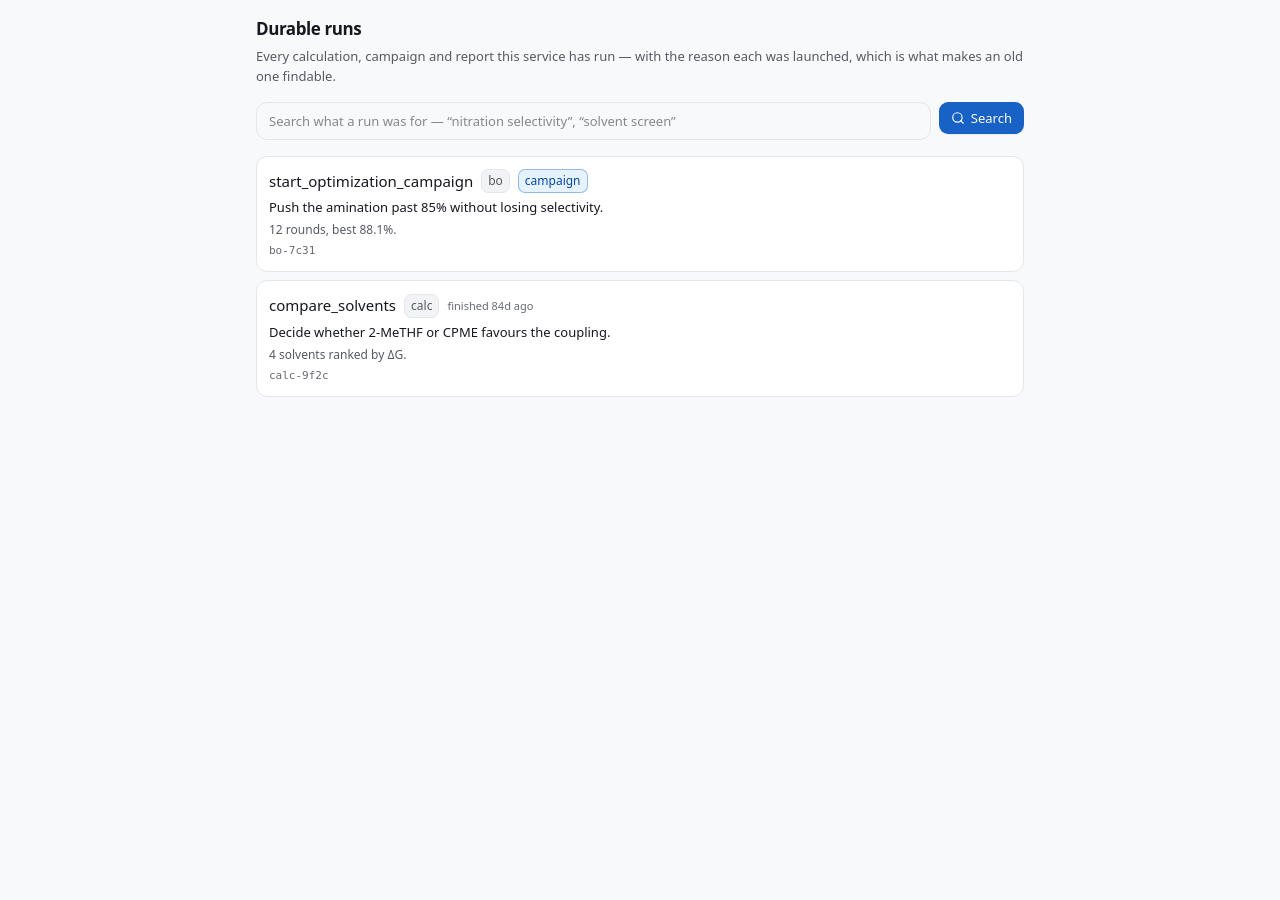
it: JobsPanel › tells a multi-hour campaign apart from a calculation, in the list and in the sheet
Expected: the text "campaign" is shown, [518,169,588,193]
Step 1. Click the button "start_optimization_campaign" → (371, 181), box [256,156,1024,272]
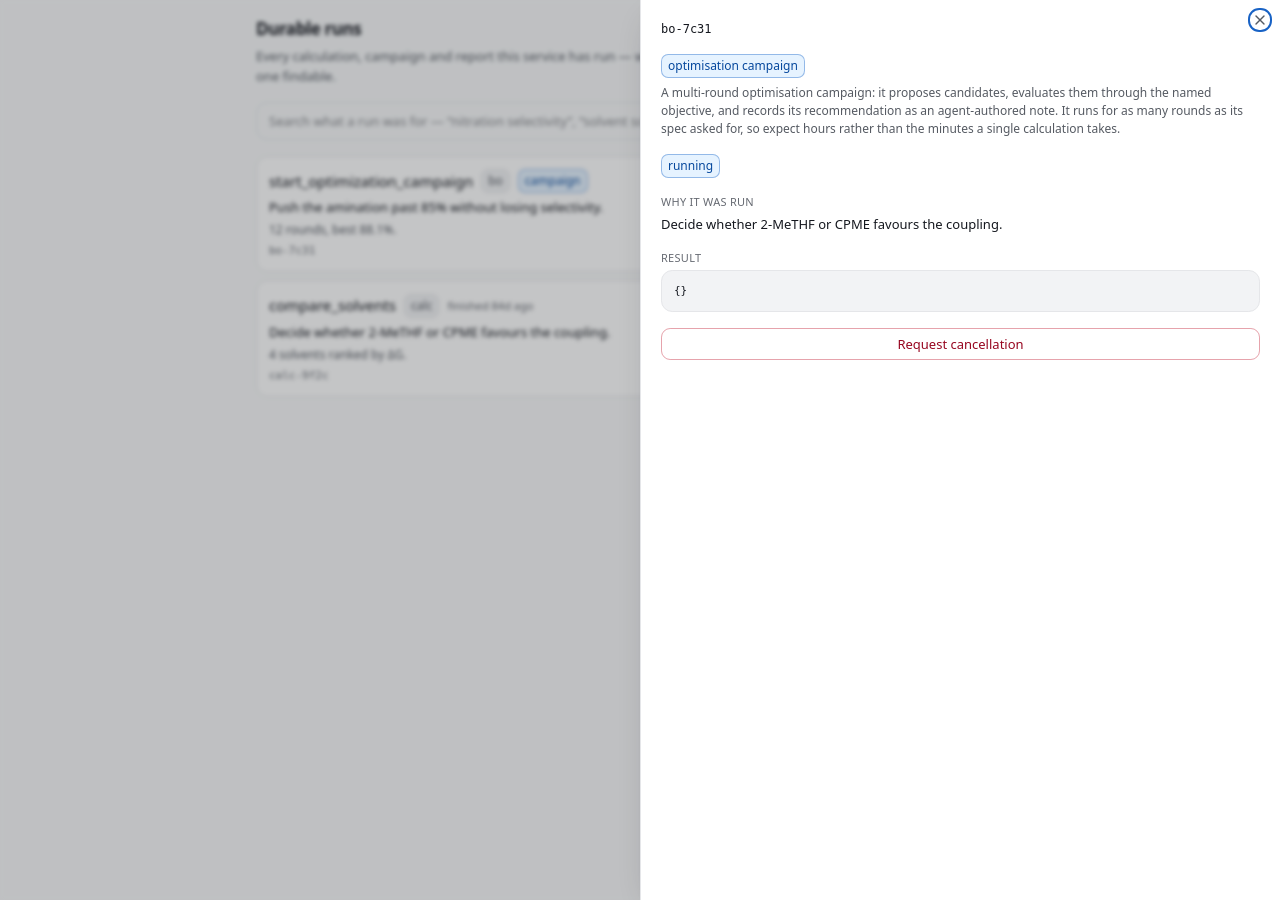
Expected: the text "optimisation campaign" is shown, [661,54,805,78]
Expected: the text "hours rather than the minutes" is shown, [661,84,1243,137]
